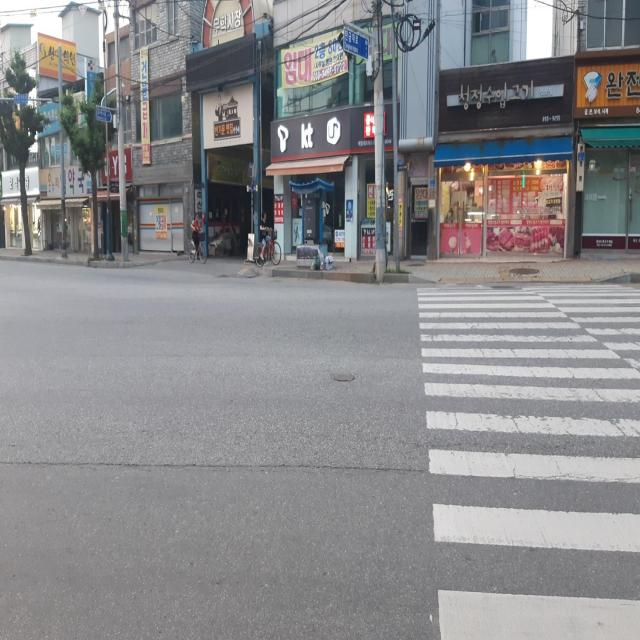횡단보도: (414, 282, 640, 640)
